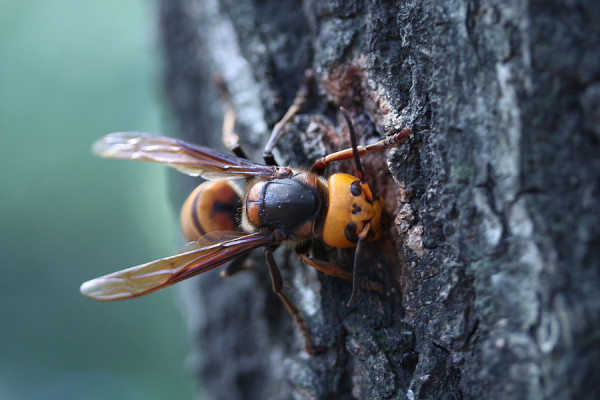asian_giant_hornet: (177, 127, 413, 290)
